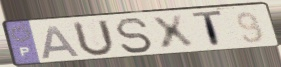9: (235, 10, 266, 45)
A: (40, 24, 83, 60)
S: (113, 17, 156, 55)
T: (190, 9, 225, 50)
U: (71, 19, 118, 59)
X: (148, 14, 198, 53)
